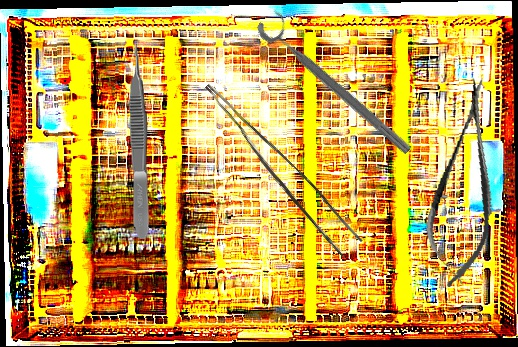Fixation Ring: (253, 5, 423, 160)
Micro Scissor: (416, 74, 514, 292)
Tissue Forceps: (186, 83, 368, 259), (128, 43, 151, 240)
